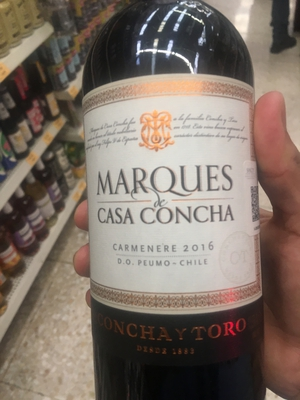marques de casa concha carmenere: (75, 16, 274, 384)
